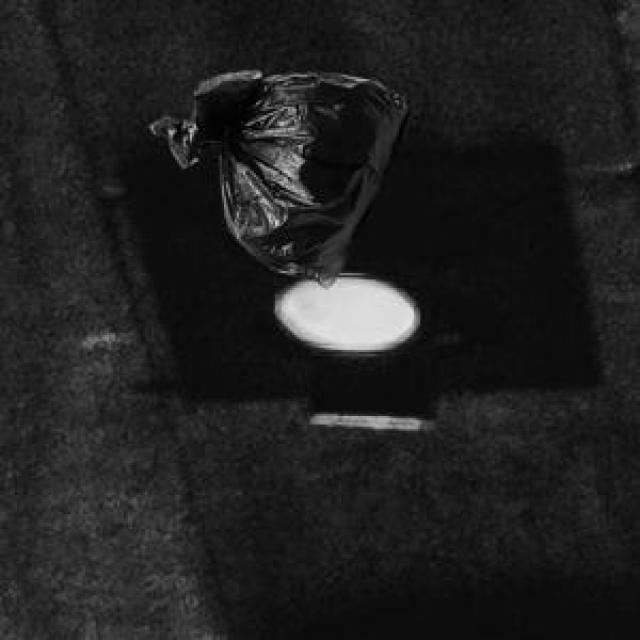miscellaneous trash: (147, 66, 408, 284)
